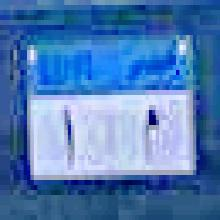1: (56, 102, 80, 174)
meem: (134, 97, 161, 163)
